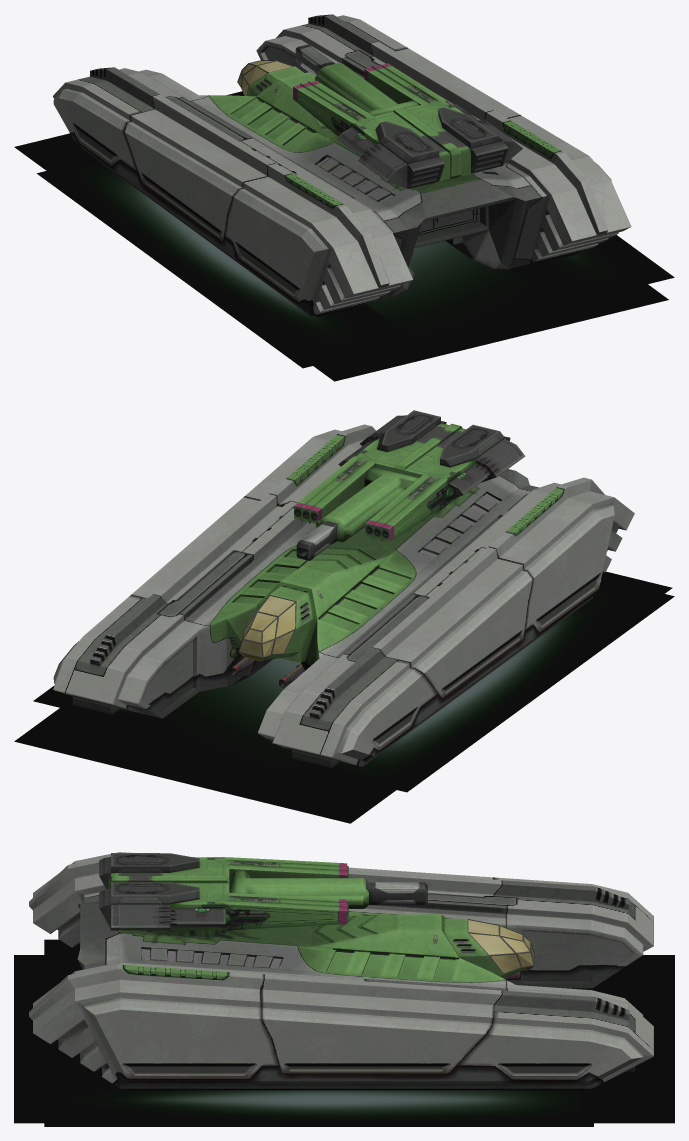
The model's file is tank.glb.
The picture shows the model from 3 angles, top to bottom: view 1: azimuth 30°, elevation 25°; view 2: azimuth 150°, elevation 25°; view 3: azimuth 270°, elevation 25°; orthographic projection. The views are drawn at different scales.
Parts seen in each view (by area): view 1: detail-0, turret01-base, turret01-arms; view 2: detail-0, turret01-base, turret01-arms; view 3: detail-0, turret01-base, turret01-arms.
Part boxes in pixels (<box>): detail-0: <box>14,14,674,381</box>; turret01-base: <box>293,63,522,188</box>; turret01-arms: <box>295,44,418,116</box>; detail-0: <box>14,424,674,823</box>; turret01-base: <box>294,410,525,541</box>; turret01-arms: <box>296,467,418,560</box>; detail-0: <box>14,852,674,1126</box>; turret01-base: <box>99,853,348,930</box>; turret01-arms: <box>229,870,427,908</box>.
Size of the model in its own units: 20.04 by 8.22 by 29.89.
4 materials, 3 textured.
